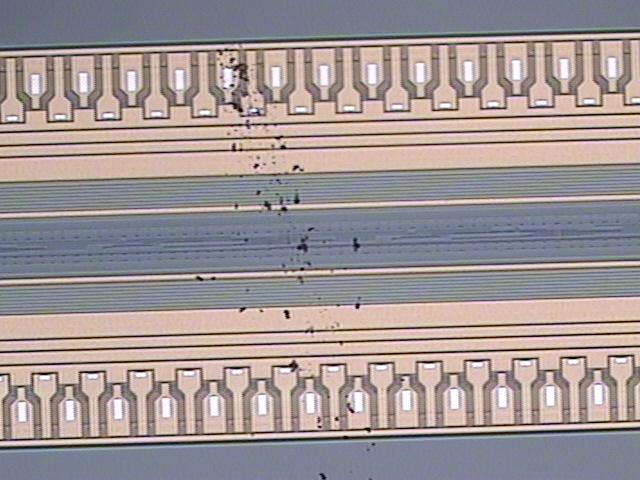PO CONTAMINATION: (195, 43, 383, 480)
